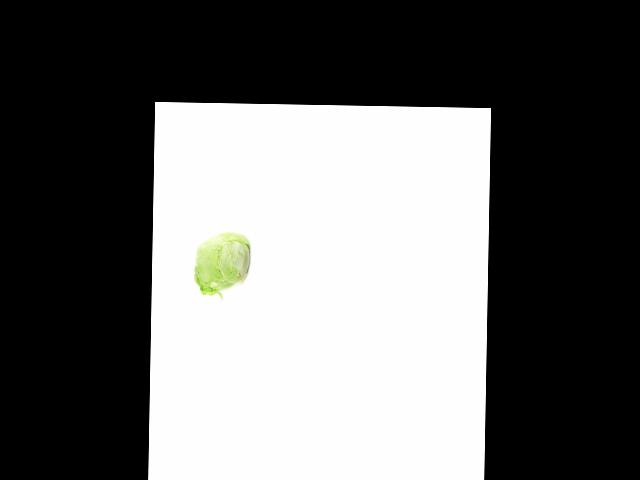lettuce: (191, 229, 253, 293)
